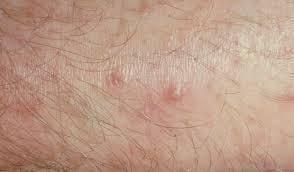purulent: (166, 81, 192, 107)
